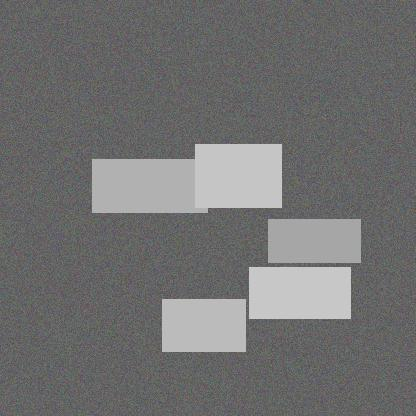empty: (104, 167, 158, 224)
occupied: (180, 193, 235, 274), (190, 257, 240, 325)
